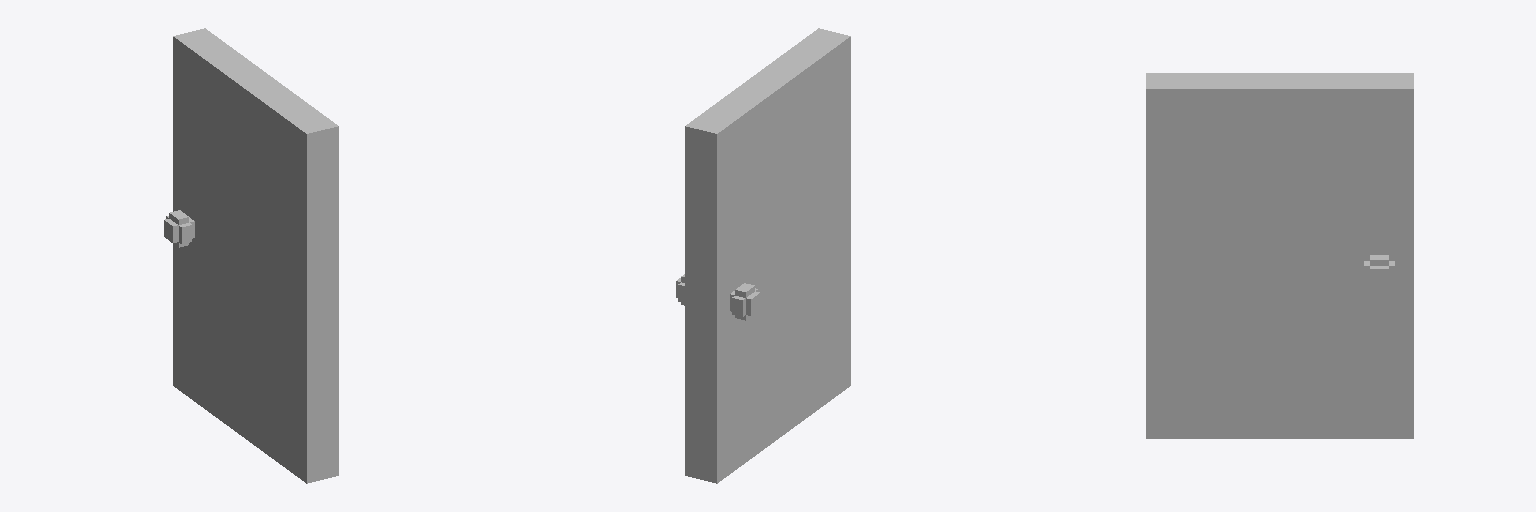
The model's file is door.obj.
3 views of the same model, side by side, from view 1: azimuth 30°, elevation 25°; view 2: azimuth 150°, elevation 25°; view 3: azimuth 270°, elevation 25° (orthographic).
Parts seen in each view (by area): view 1: object 1; view 2: object 1; view 3: object 1.
Boxes of the visible parts, x1=… form: object 1: x1=164, y1=28, x2=338, y2=483; object 1: x1=676, y1=28, x2=850, y2=483; object 1: x1=1146, y1=73, x2=1413, y2=438.
Size of the model in its own units: 1.4 by 6.2 by 4.3.